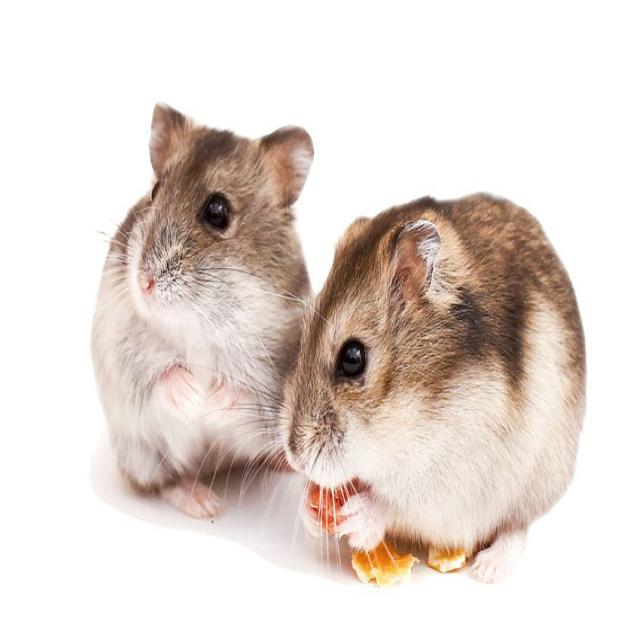hamster: (280, 194, 586, 581), (93, 104, 314, 517)
